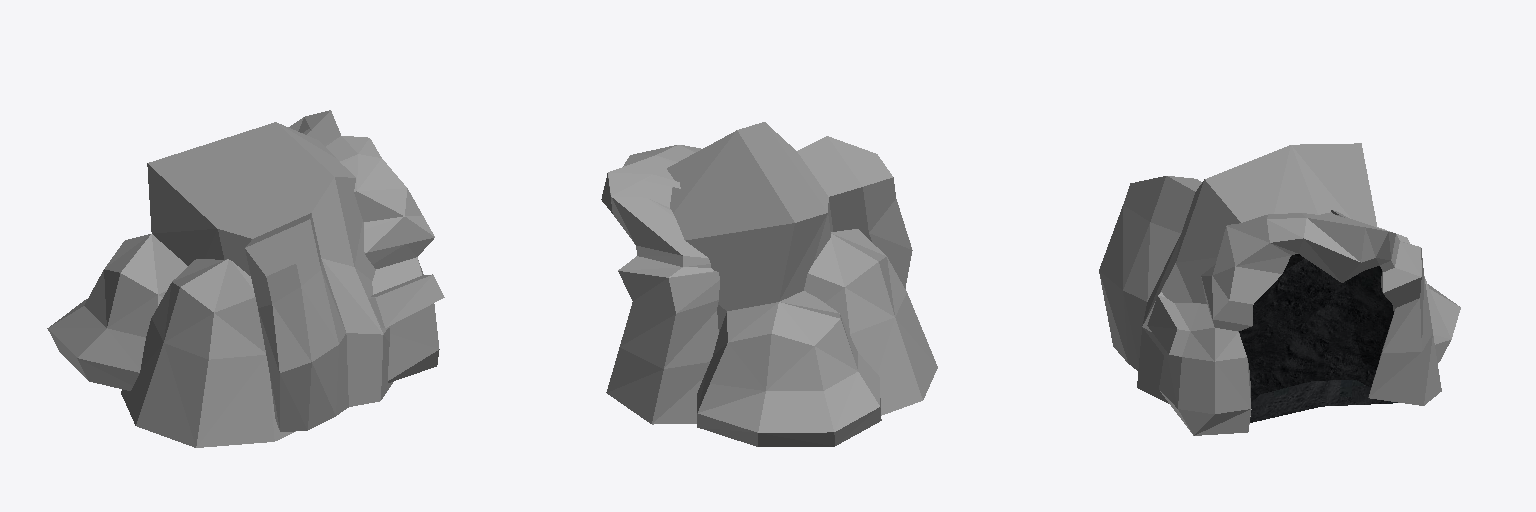
The picture shows the model from 3 angles: view 1: azimuth 30°, elevation 25°; view 2: azimuth 150°, elevation 25°; view 3: azimuth 270°, elevation 25°; orthographic projection.
Visible parts, largest first — view 1: Cube.006, Cube.003, Cube; view 2: Cube.006, Cube, Cube.003; view 3: Cube.006, Cube.
Boxes of the visible parts, box(x1,y1,x2,y2) form: Cube.006: box(47, 122, 392, 431); Cube.003: box(121, 259, 295, 447); Cube: box(289, 110, 444, 382); Cube.006: box(667, 122, 912, 446); Cube: box(601, 145, 719, 424); Cube.003: box(804, 229, 937, 415); Cube.006: box(1099, 143, 1460, 422); Cube: box(1147, 210, 1441, 435).
Bounding box in the file's own units: 7.73 × 6.27 × 8.32.
3 materials, 1 textured.